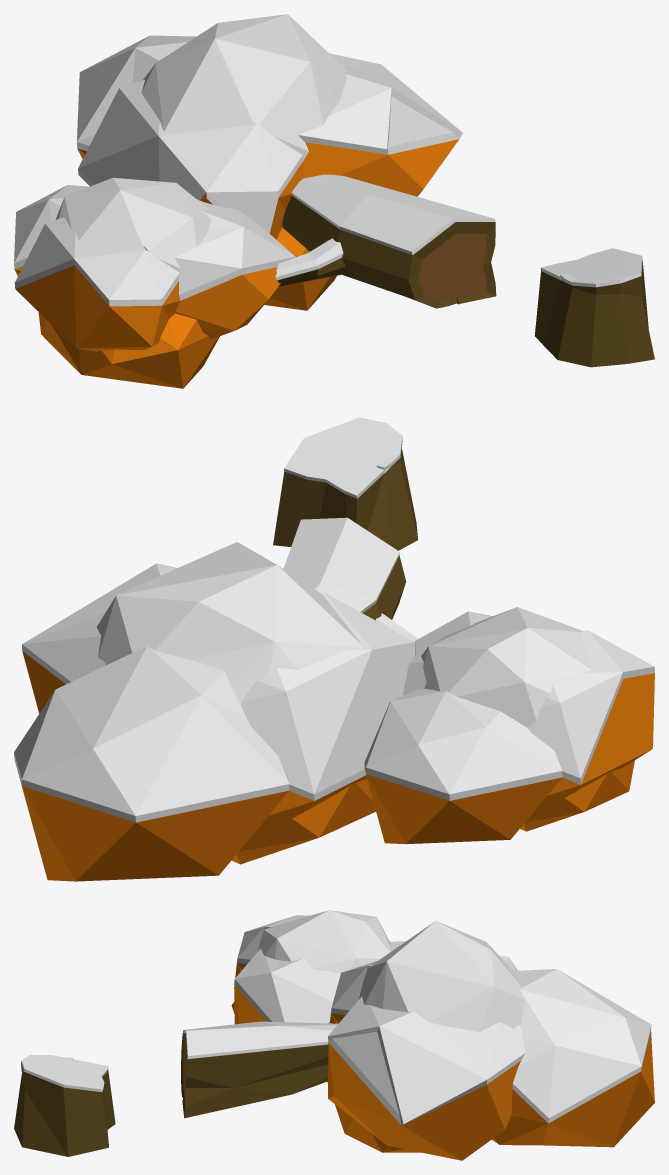
Rendered from Tree#14_Snow.fbx.
3 renders of one model, top to bottom at view 1: azimuth 30°, elevation 25°; view 2: azimuth 150°, elevation 25°; view 3: azimuth 270°, elevation 25°, orthographic. The views are drawn at different scales.
Parts seen in each view (by area): view 1: Tree#14_Snow; view 2: Tree#14_Snow; view 3: Tree#14_Snow.
Part boxes in pixels (x1,y1,x2,y2): Tree#14_Snow: (14, 14, 654, 388); Tree#14_Snow: (14, 417, 654, 881); Tree#14_Snow: (14, 910, 654, 1160).
Bounding box in the file's own units: 774 × 409 × 1119.
